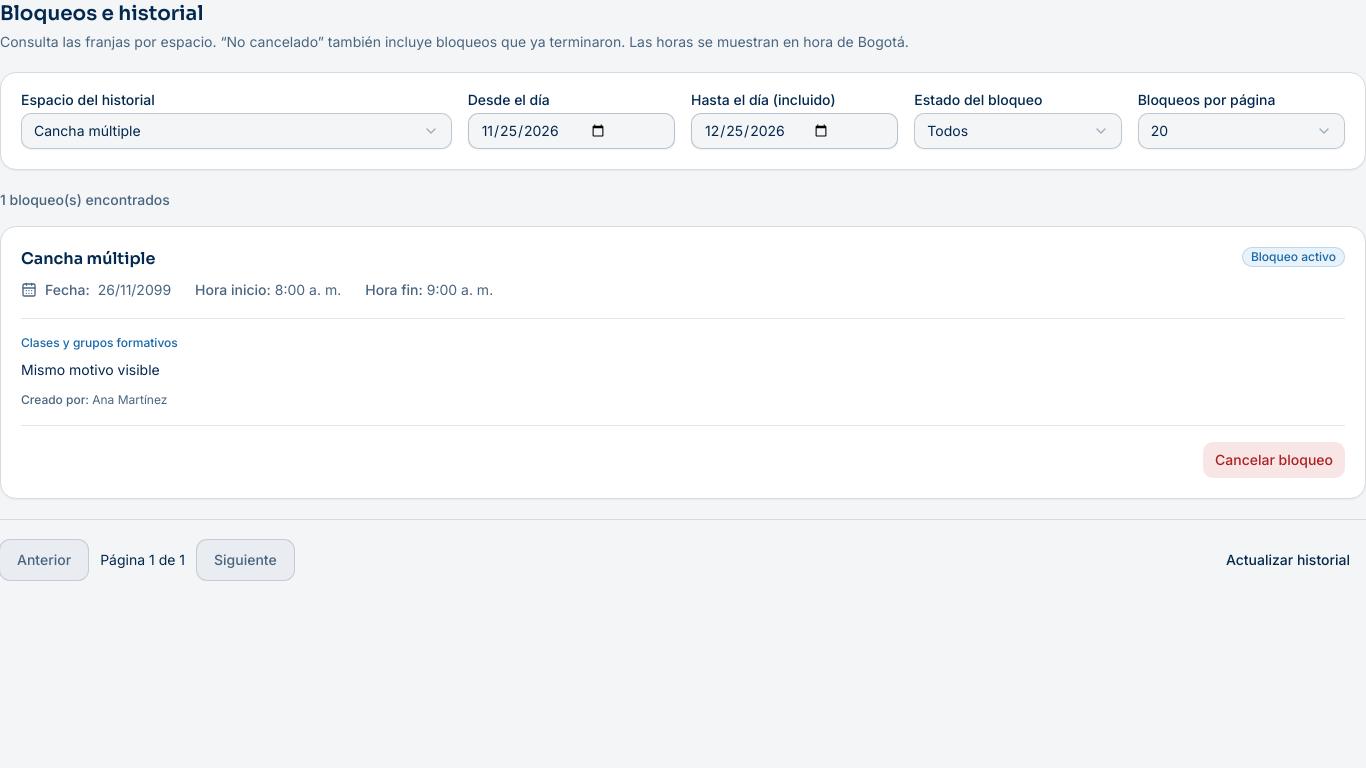
it: conserva el reintento tras perder el cuerpo HTTP 200 y finalizar la franja
This screenshot has width=1366, height=768.
Click the button "Cancelar bloqueo" at (1274, 460), box [1203,442,1345,478]
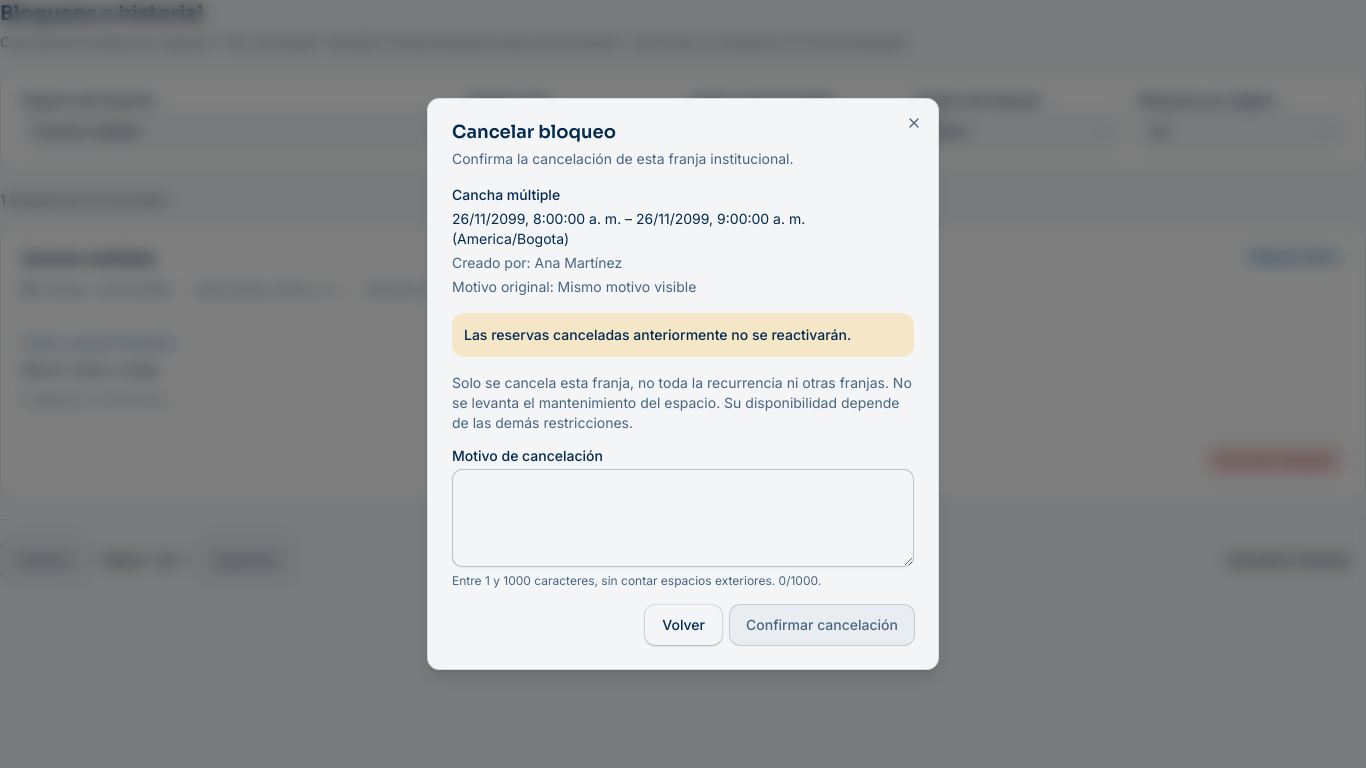
Type "Motivo antes del fin" into the text box labelled "Motivo de cancelación" at (683, 518), box [452,469,914,567]
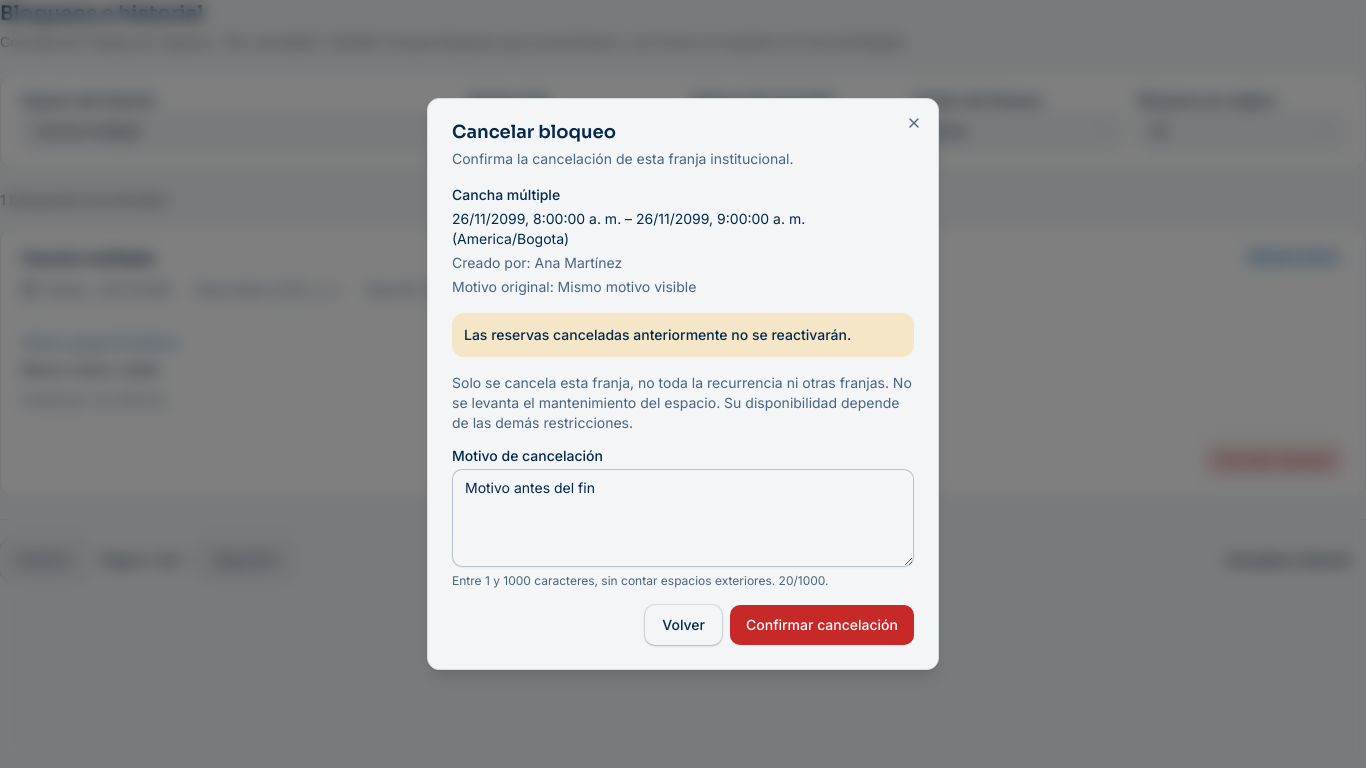
Click the button "Confirmar cancelación" at (822, 625), box [730,605,914,645]
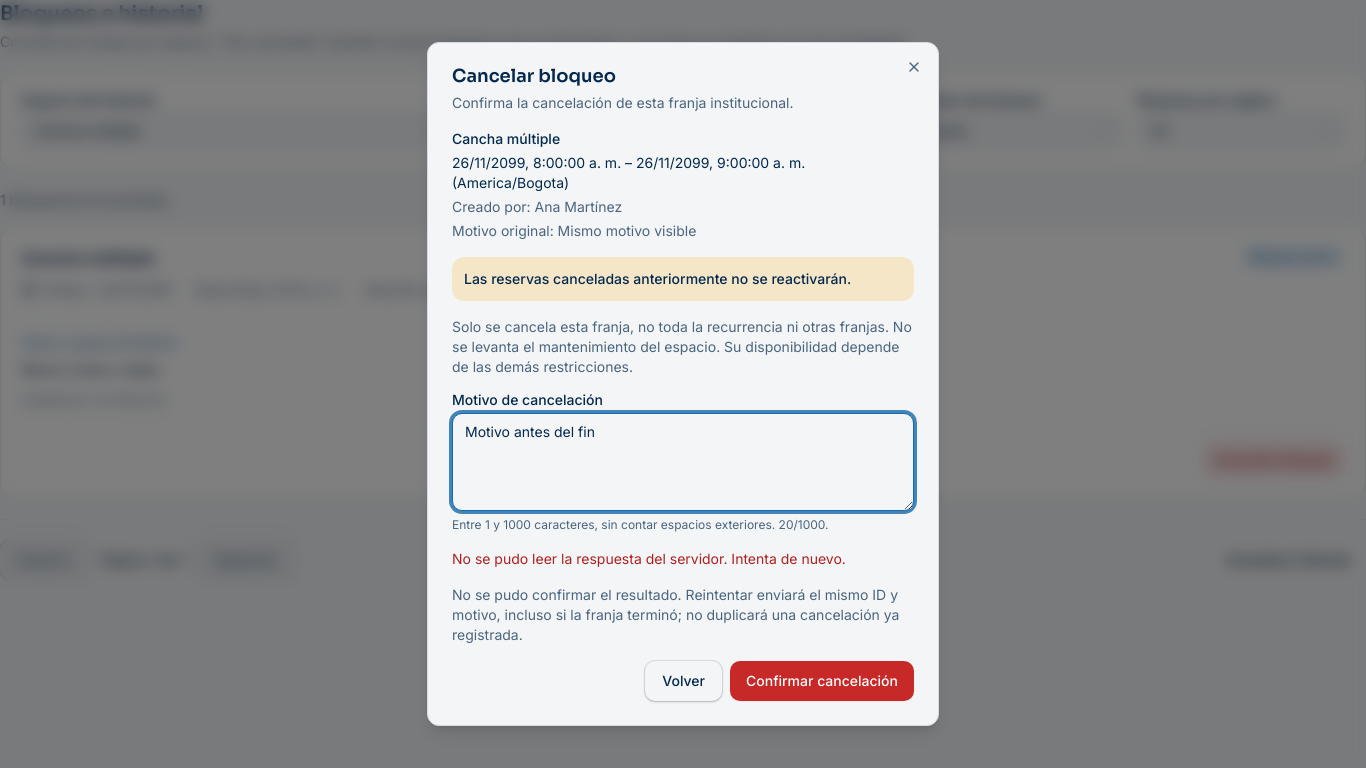
Check: the text "No se pudo leer la respuesta del servidor. Intenta de nuevo." is shown, box [452,549,914,569]
Click the button "Confirmar cancelación" at (822, 681), box [730,661,914,701]
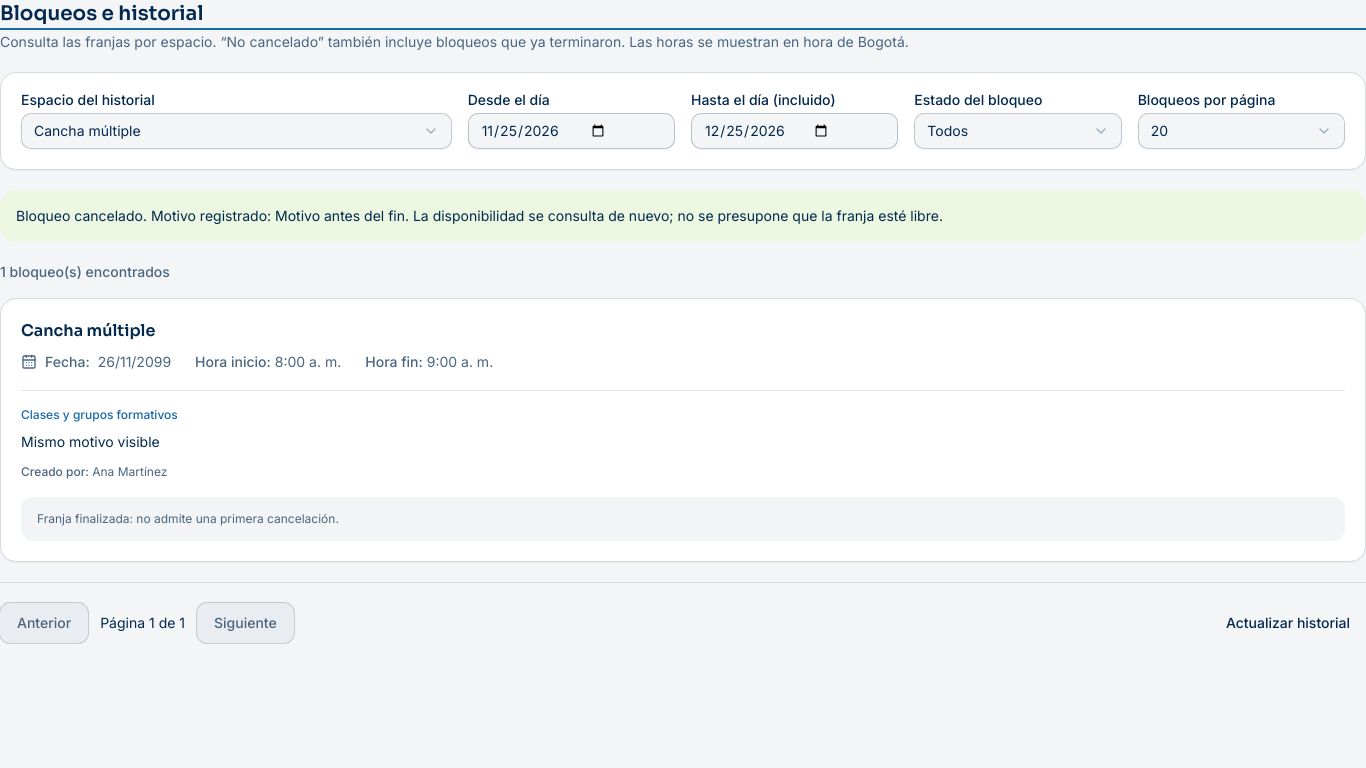
Check: the text "Motivo registrado: Motivo antes del fin" is shown, box [16,207,943,224]
